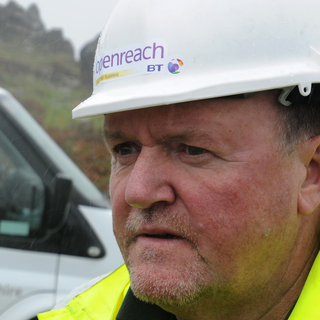eye: (169, 139, 220, 163), (108, 139, 142, 160)
